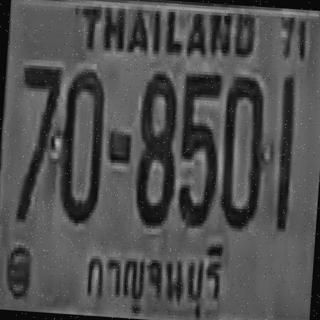N00: (56, 65, 106, 221), (217, 73, 267, 227)
N01: (271, 74, 296, 229)
N05: (175, 70, 222, 227)
N07: (12, 62, 61, 221)
N08: (132, 70, 180, 224)
P17: (76, 236, 228, 320)
